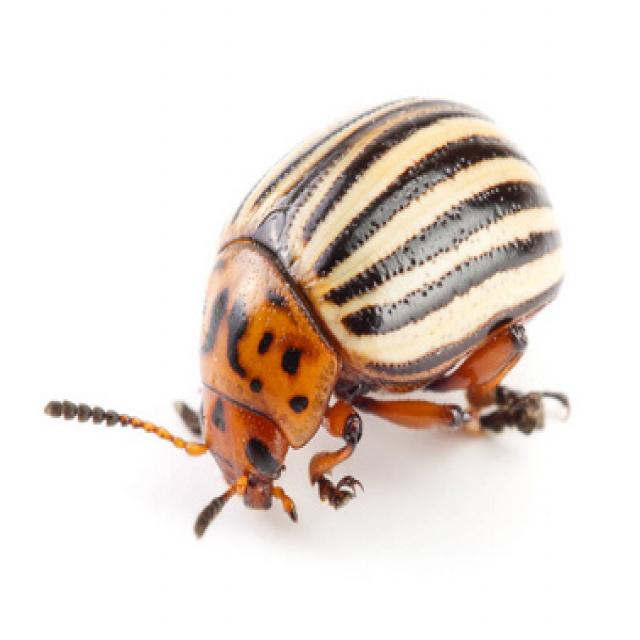ShuCaiHuaBanChong-Grown-: (165, 56, 572, 522)
